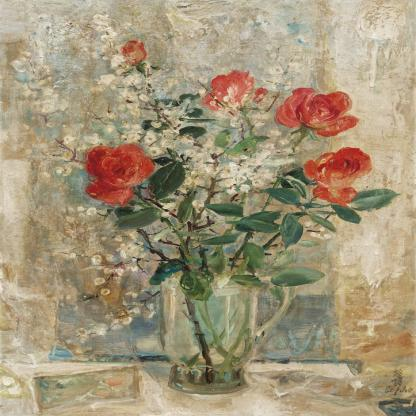vase: (157, 270, 294, 394)
